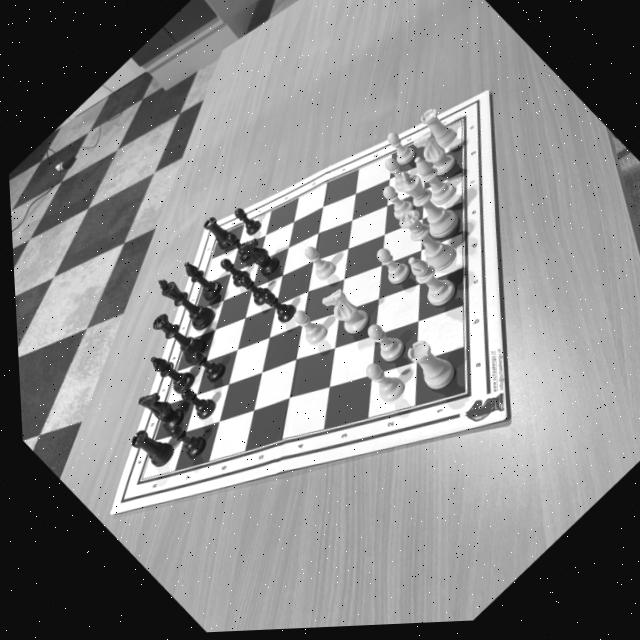chessboard: (137, 123, 463, 481)
